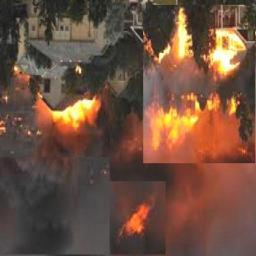Heavy smoke: (0, 159, 105, 249), (167, 169, 256, 251)
Medium fire: (155, 9, 245, 150), (34, 91, 102, 141)
